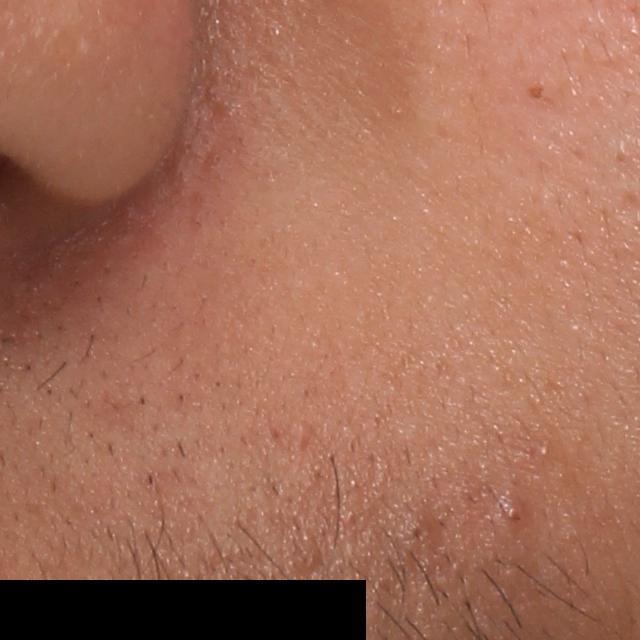comedo: (527, 82, 550, 104), (408, 521, 429, 544)
